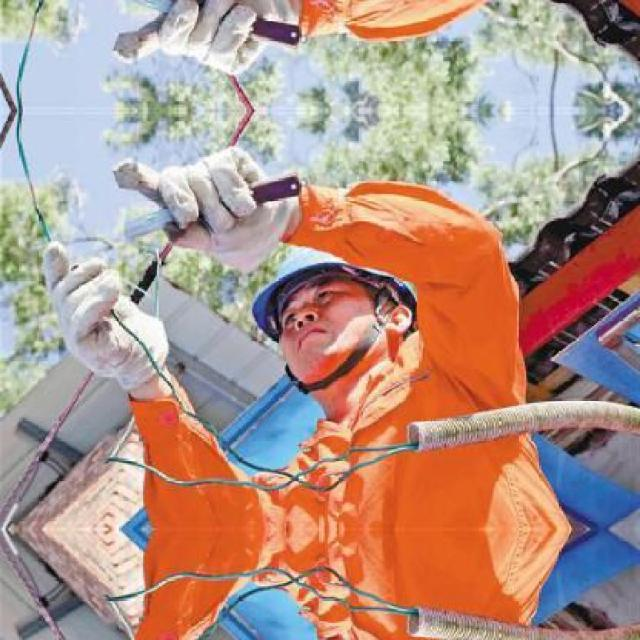safetyhelmet: (239, 239, 422, 343)
